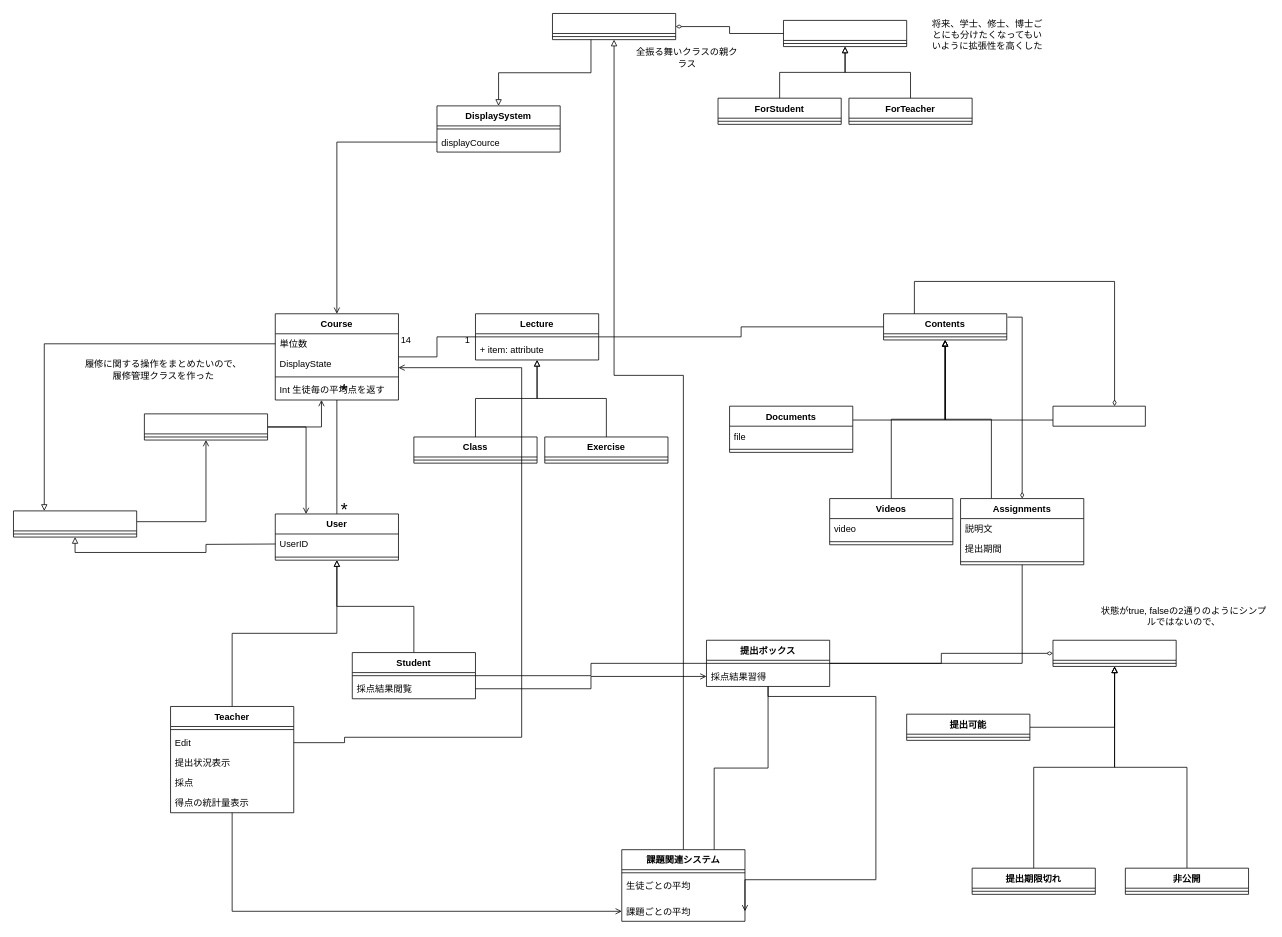
Image size: 1282x937. Some labels were removed from this diagram. Here are the shapes that lost their labels. From the top down, the centre of each, then its label:
At (x=614, y=26): "Sysyem".
At (x=845, y=33): "Strategy".
At (x=206, y=426): "CourseManager".
At (x=1098, y=415): "SubDocuments".
At (x=75, y=523): "Collegue".
At (x=1114, y=652): "State".
